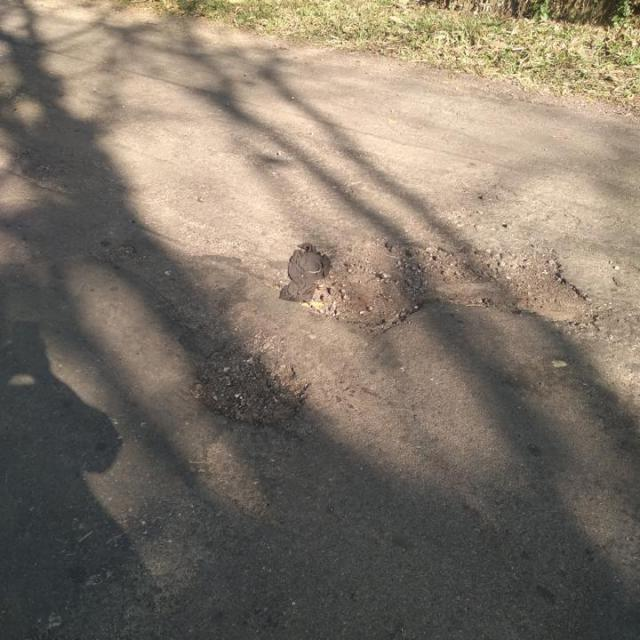pothole: (298, 235, 604, 338), (188, 343, 314, 426)
